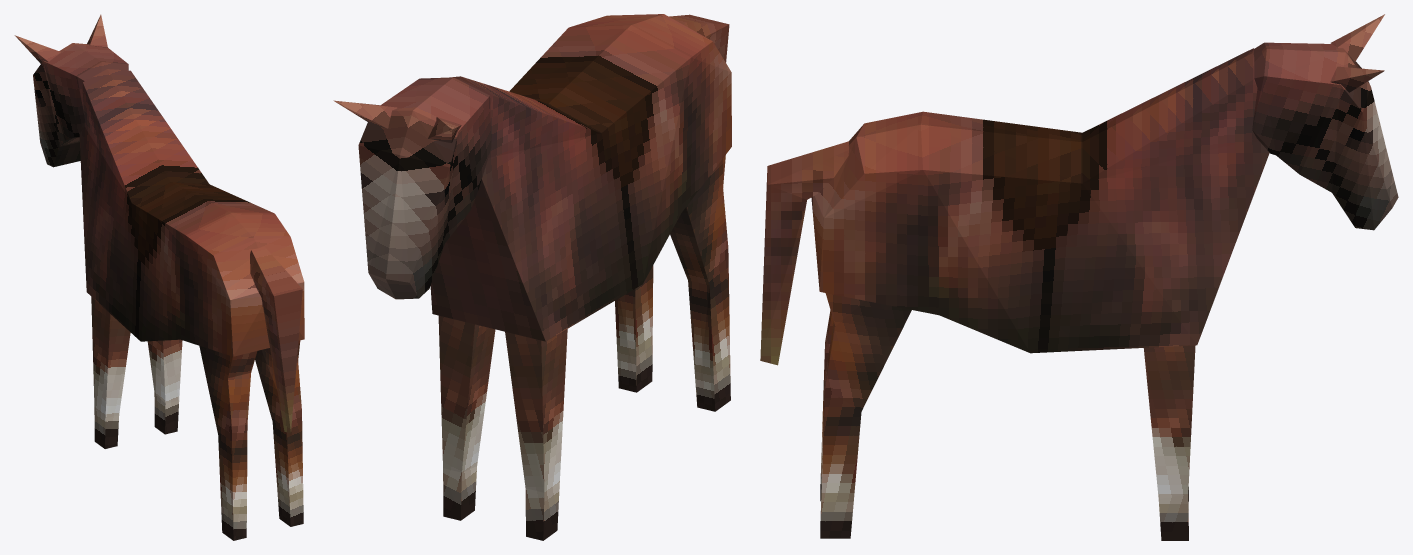
Rendered from Horse_Horse_Chestnut_Saddled.glb.
3 views of the same model, side by side, from view 1: azimuth 30°, elevation 25°; view 2: azimuth 150°, elevation 25°; view 3: azimuth 270°, elevation 25° (orthographic). The views are drawn at different scales.
Visible parts, largest first — view 1: Body, Head, Leg3, Leg4, Leg1, Leg2; view 2: Body, Head, Leg3, Leg1, Leg2, Leg4; view 3: Body, Head, Leg4, Leg2.
Boxes of the visible parts, <box> form: Body: <box>79,69,304,432</box>; Head: <box>14,14,128,167</box>; Leg3: <box>199,346,257,540</box>; Leg4: <box>255,340,303,526</box>; Leg1: <box>91,297,130,448</box>; Leg2: <box>147,339,182,434</box>; Body: <box>430,14,731,341</box>; Head: <box>333,77,491,299</box>; Leg3: <box>670,155,730,411</box>; Leg1: <box>505,329,567,540</box>; Leg2: <box>438,315,495,520</box>; Leg4: <box>615,265,653,392</box>; Body: <box>760,48,1269,365</box>; Head: <box>1252,14,1398,230</box>; Leg4: <box>820,293,911,538</box>; Leg2: <box>1143,345,1195,540</box>.
Size of the model in its own units: 0.4986 by 1.71 by 2.08.
1 material, 1 textured.
